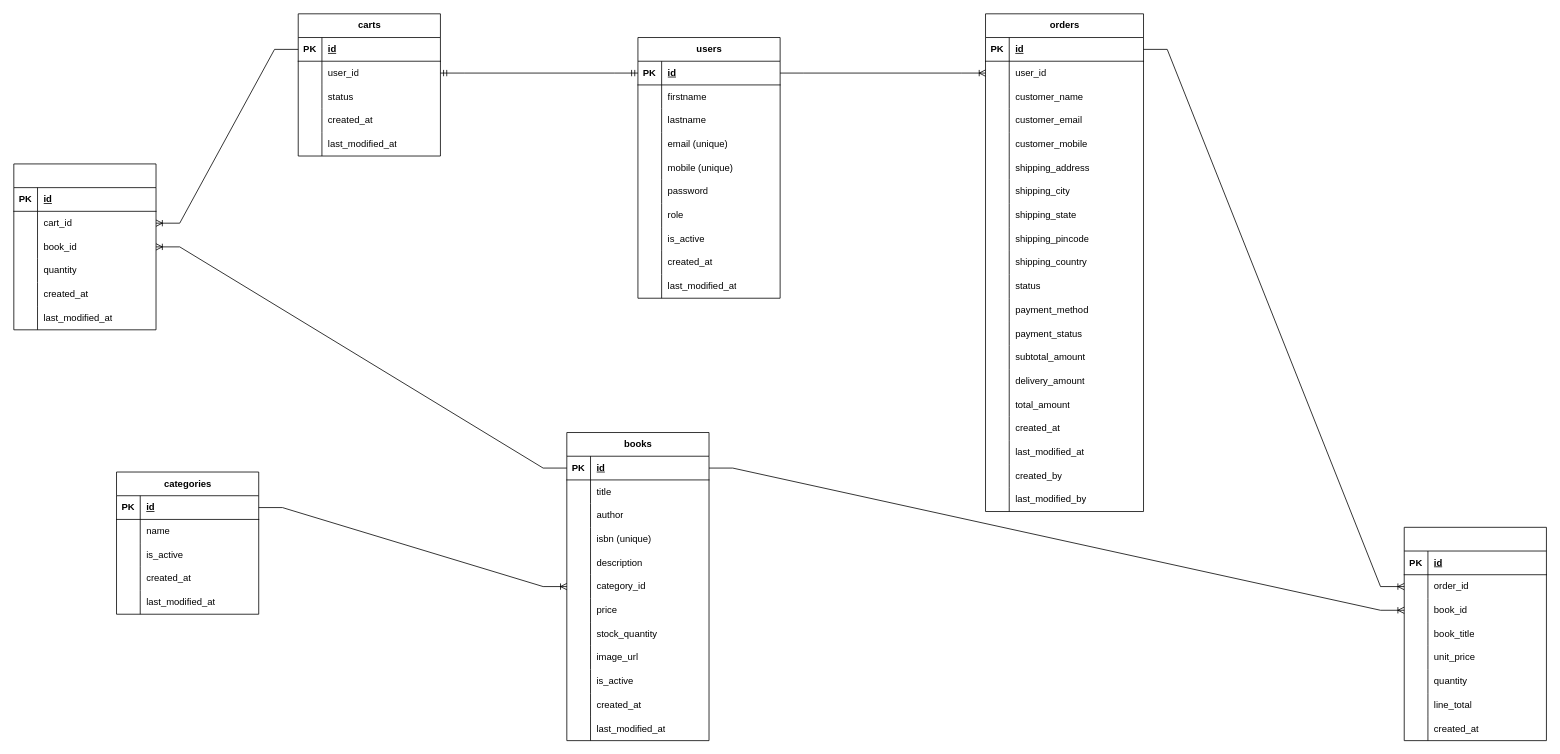
Some shapes in this 1560 by 754 pixel diagram are drawn without their labels. Each missing label, with the box of its shape:
cart_items: (13, 163, 156, 330)
order_items: (1403, 527, 1546, 741)
